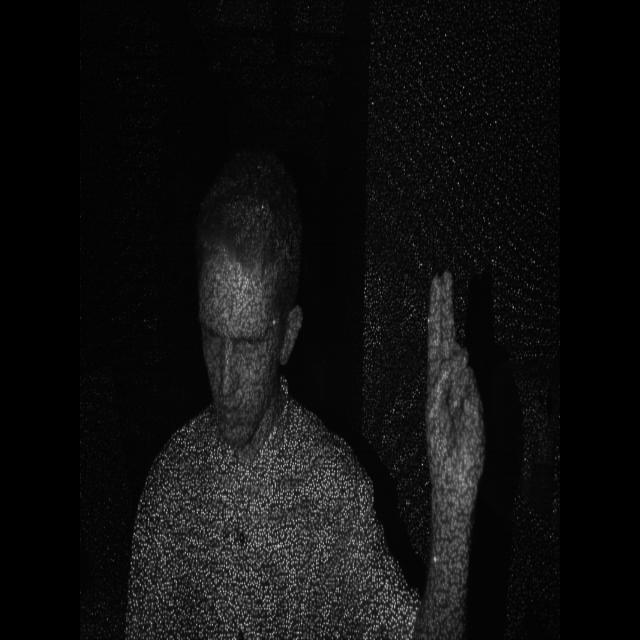U: (409, 249, 496, 518)
